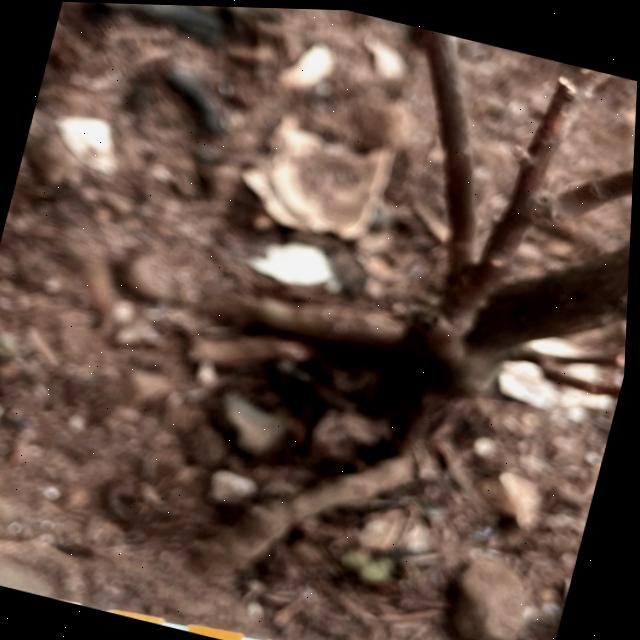Blood: (194, 623, 247, 640)
SpGravity: (114, 607, 167, 623)
pH: (273, 635, 326, 640)
